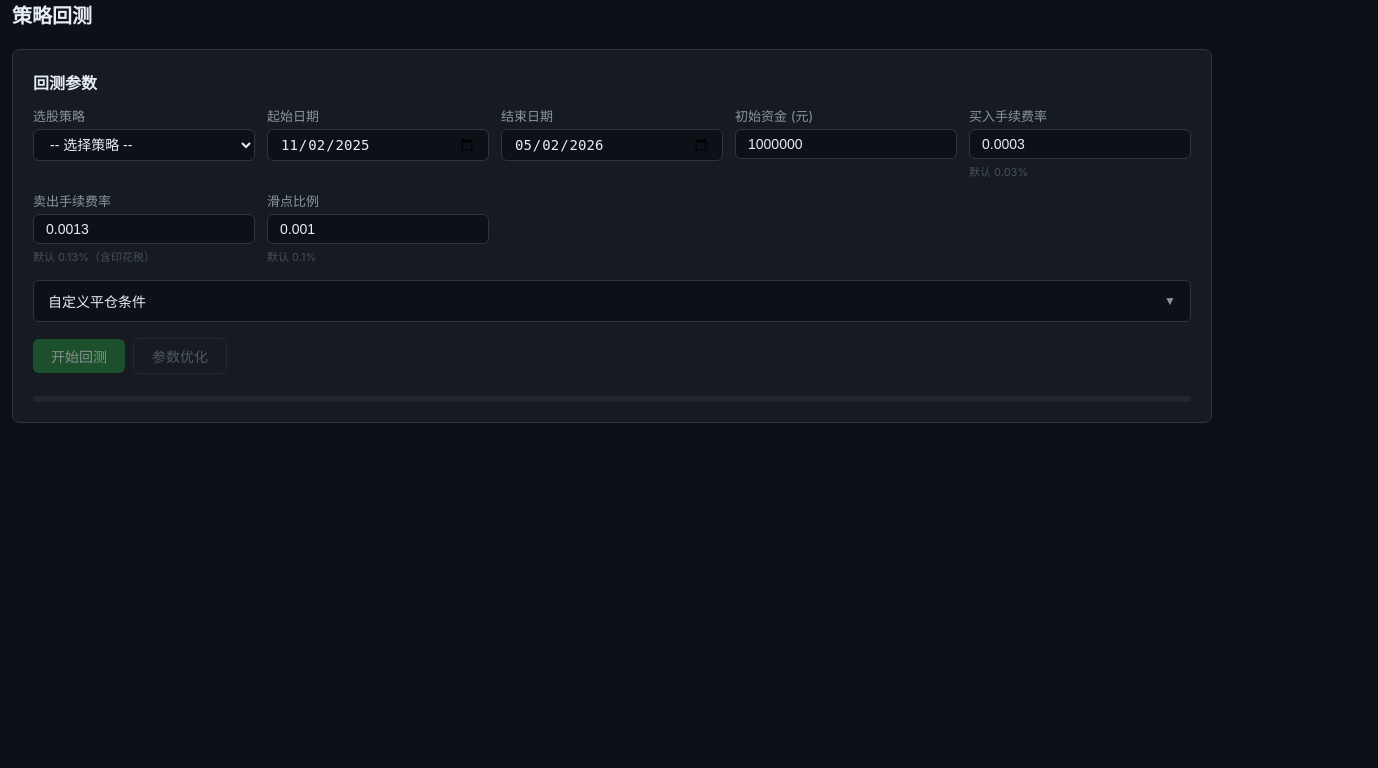
Scenario: BacktestView - 指标使用说明卡片 › 添加条件后展示对应指标的使用说明卡片
Step 1. Click the button "自定义平仓条件 ▼" → (97, 302), box [34, 281, 1190, 321]
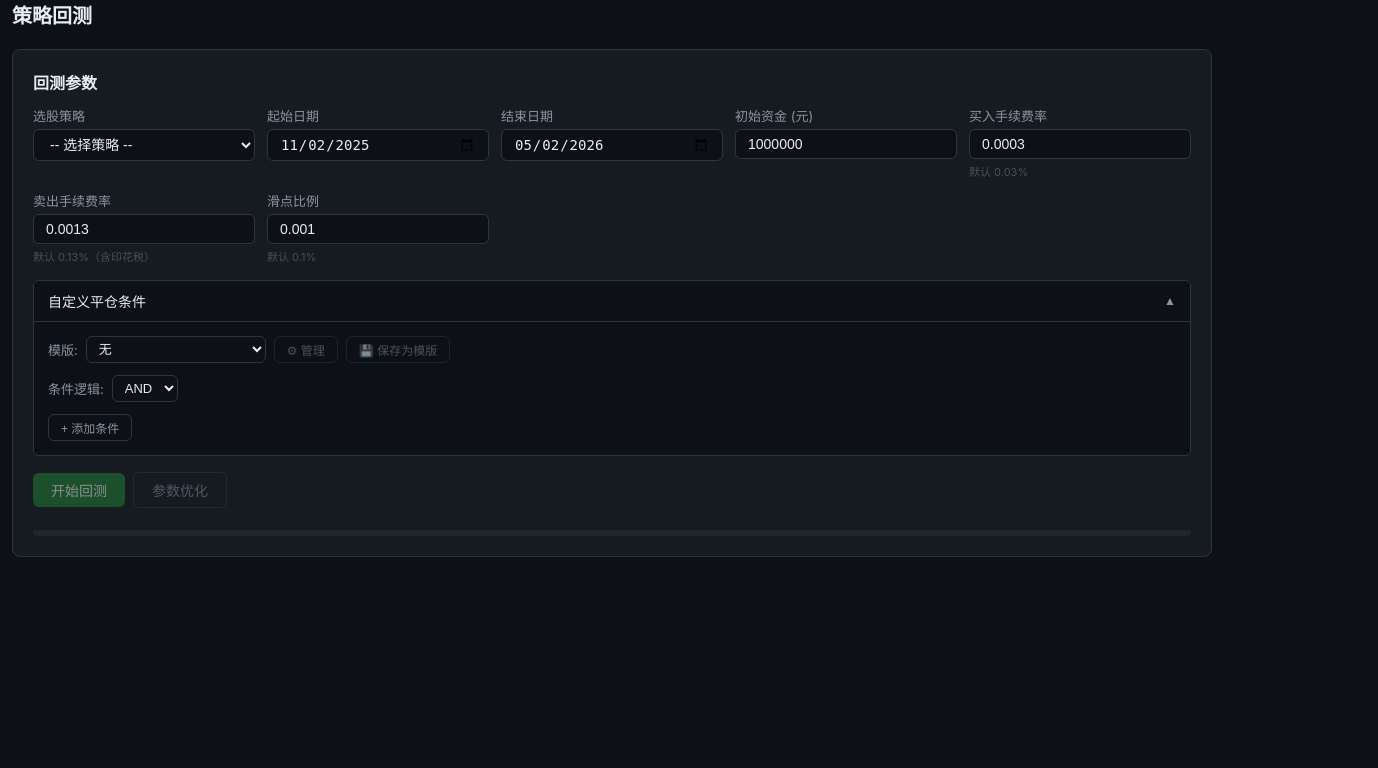
Step 2. Click the button with aria-label "添加平仓条件" → (90, 428), box [48, 414, 132, 441]
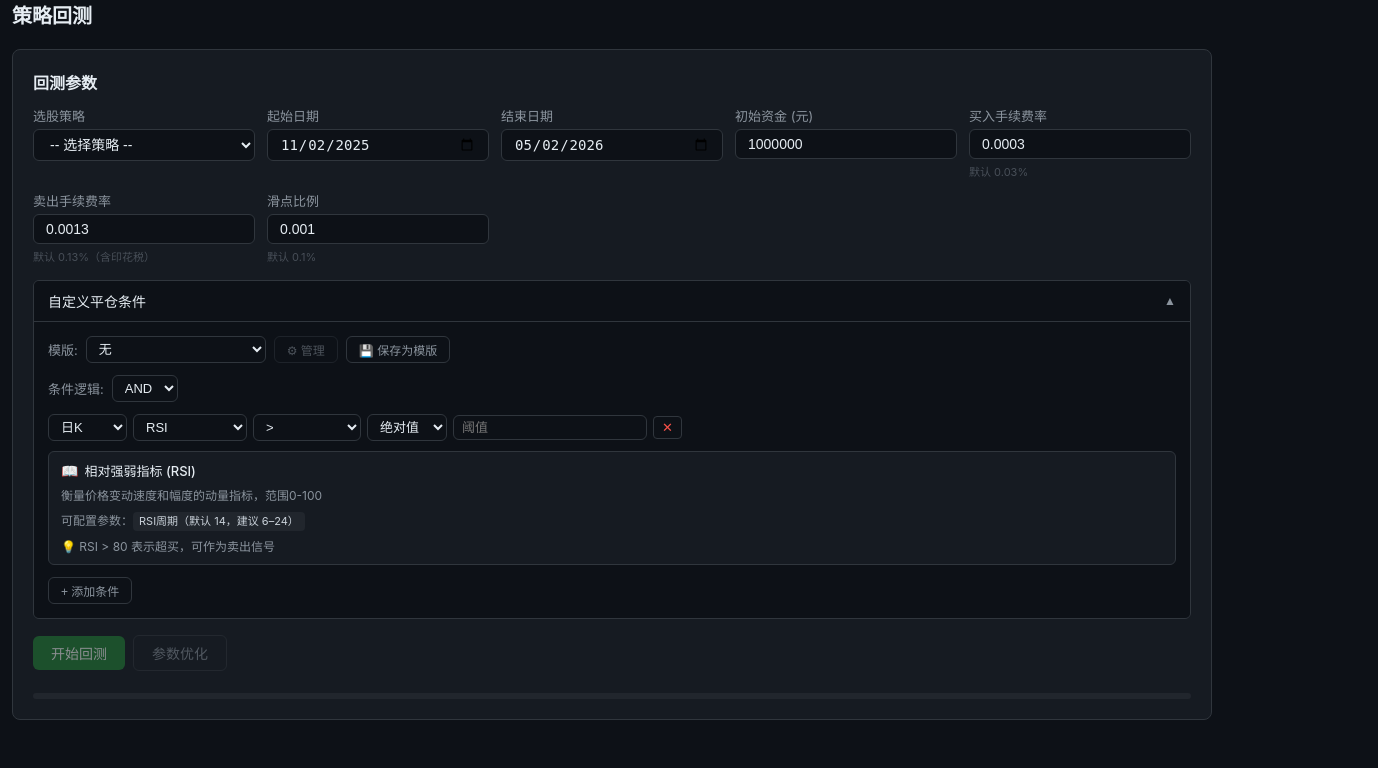
Expected: the element with class "indicator-desc-card" is shown, [48, 451, 1176, 565]
